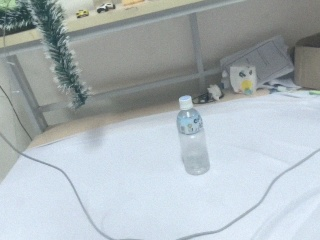bottle: (176, 94, 212, 176)
box: (291, 23, 320, 94)
